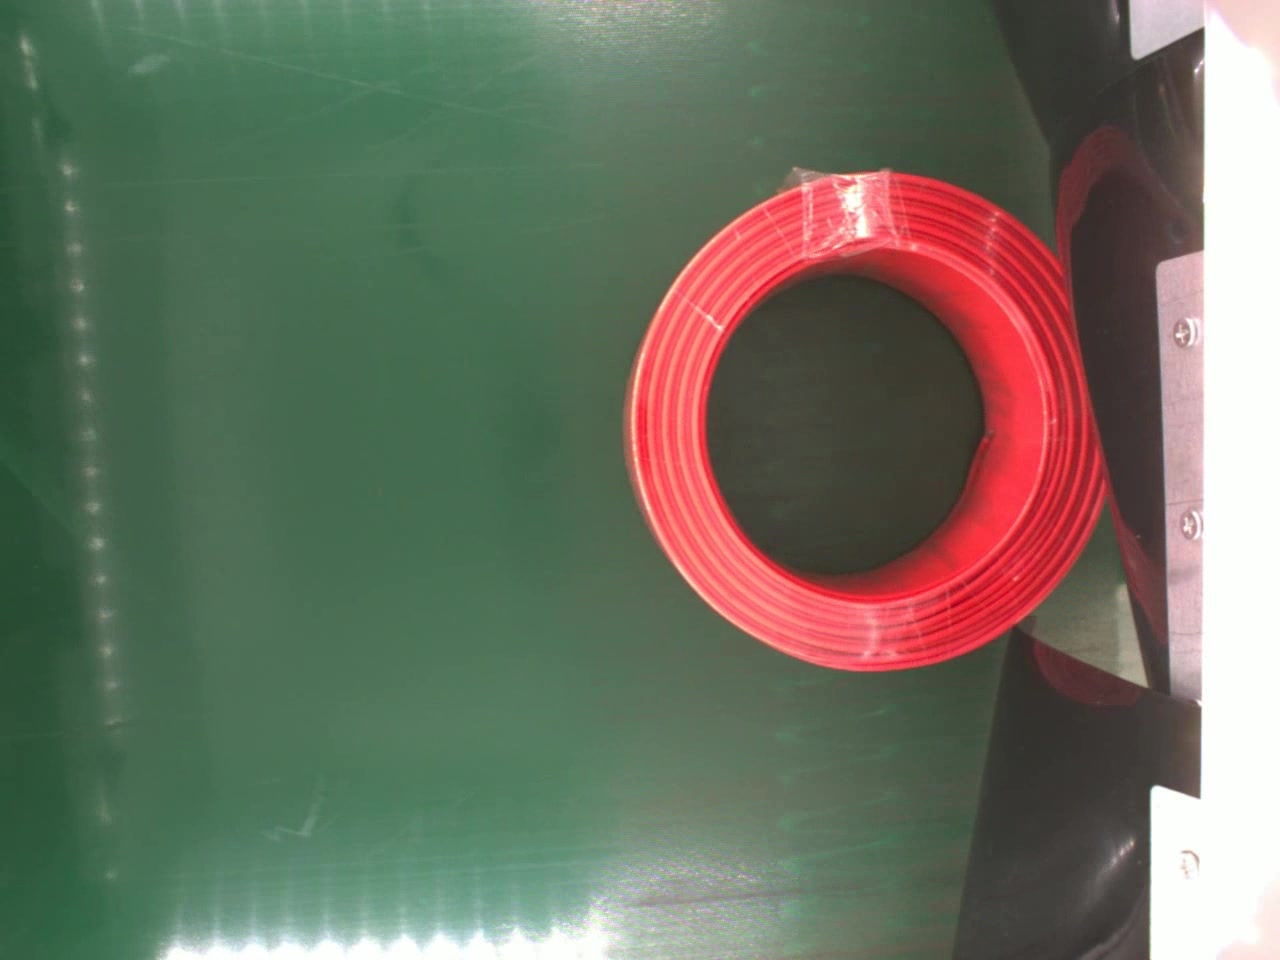red: (617, 168, 1107, 672)
